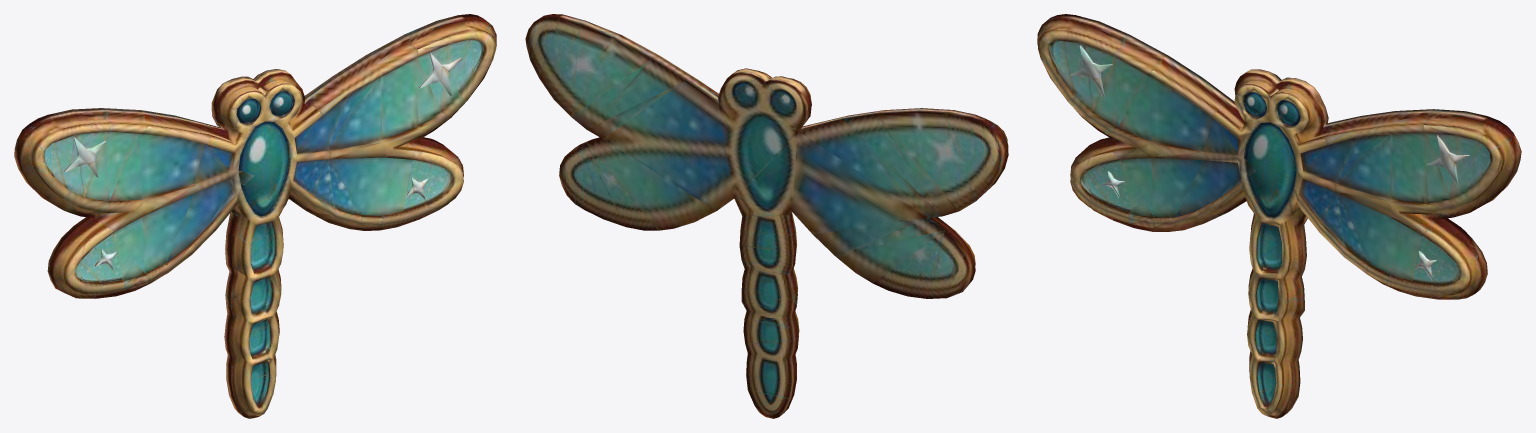
File: item-dragonflyPin.glb
The picture shows the model from 3 angles, left to right: view 1: azimuth 30°, elevation 25°; view 2: azimuth 150°, elevation 25°; view 3: azimuth 330°, elevation 25°; orthographic projection.
Bounding box in the file's own units: 0.9575 × 0.6689 × 0.0518.
Materials: 1 (1 with a texture image).
